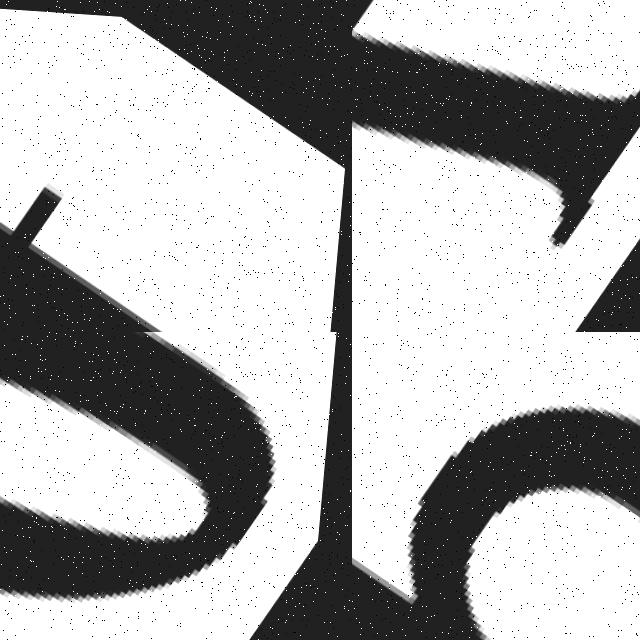0: (0, 332, 342, 640)
D: (352, 332, 640, 640)
F: (0, 37, 337, 332), (352, 0, 640, 242)
